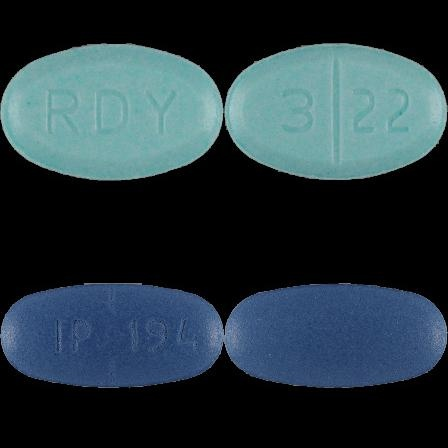63629-1255: (0, 0, 224, 224)
